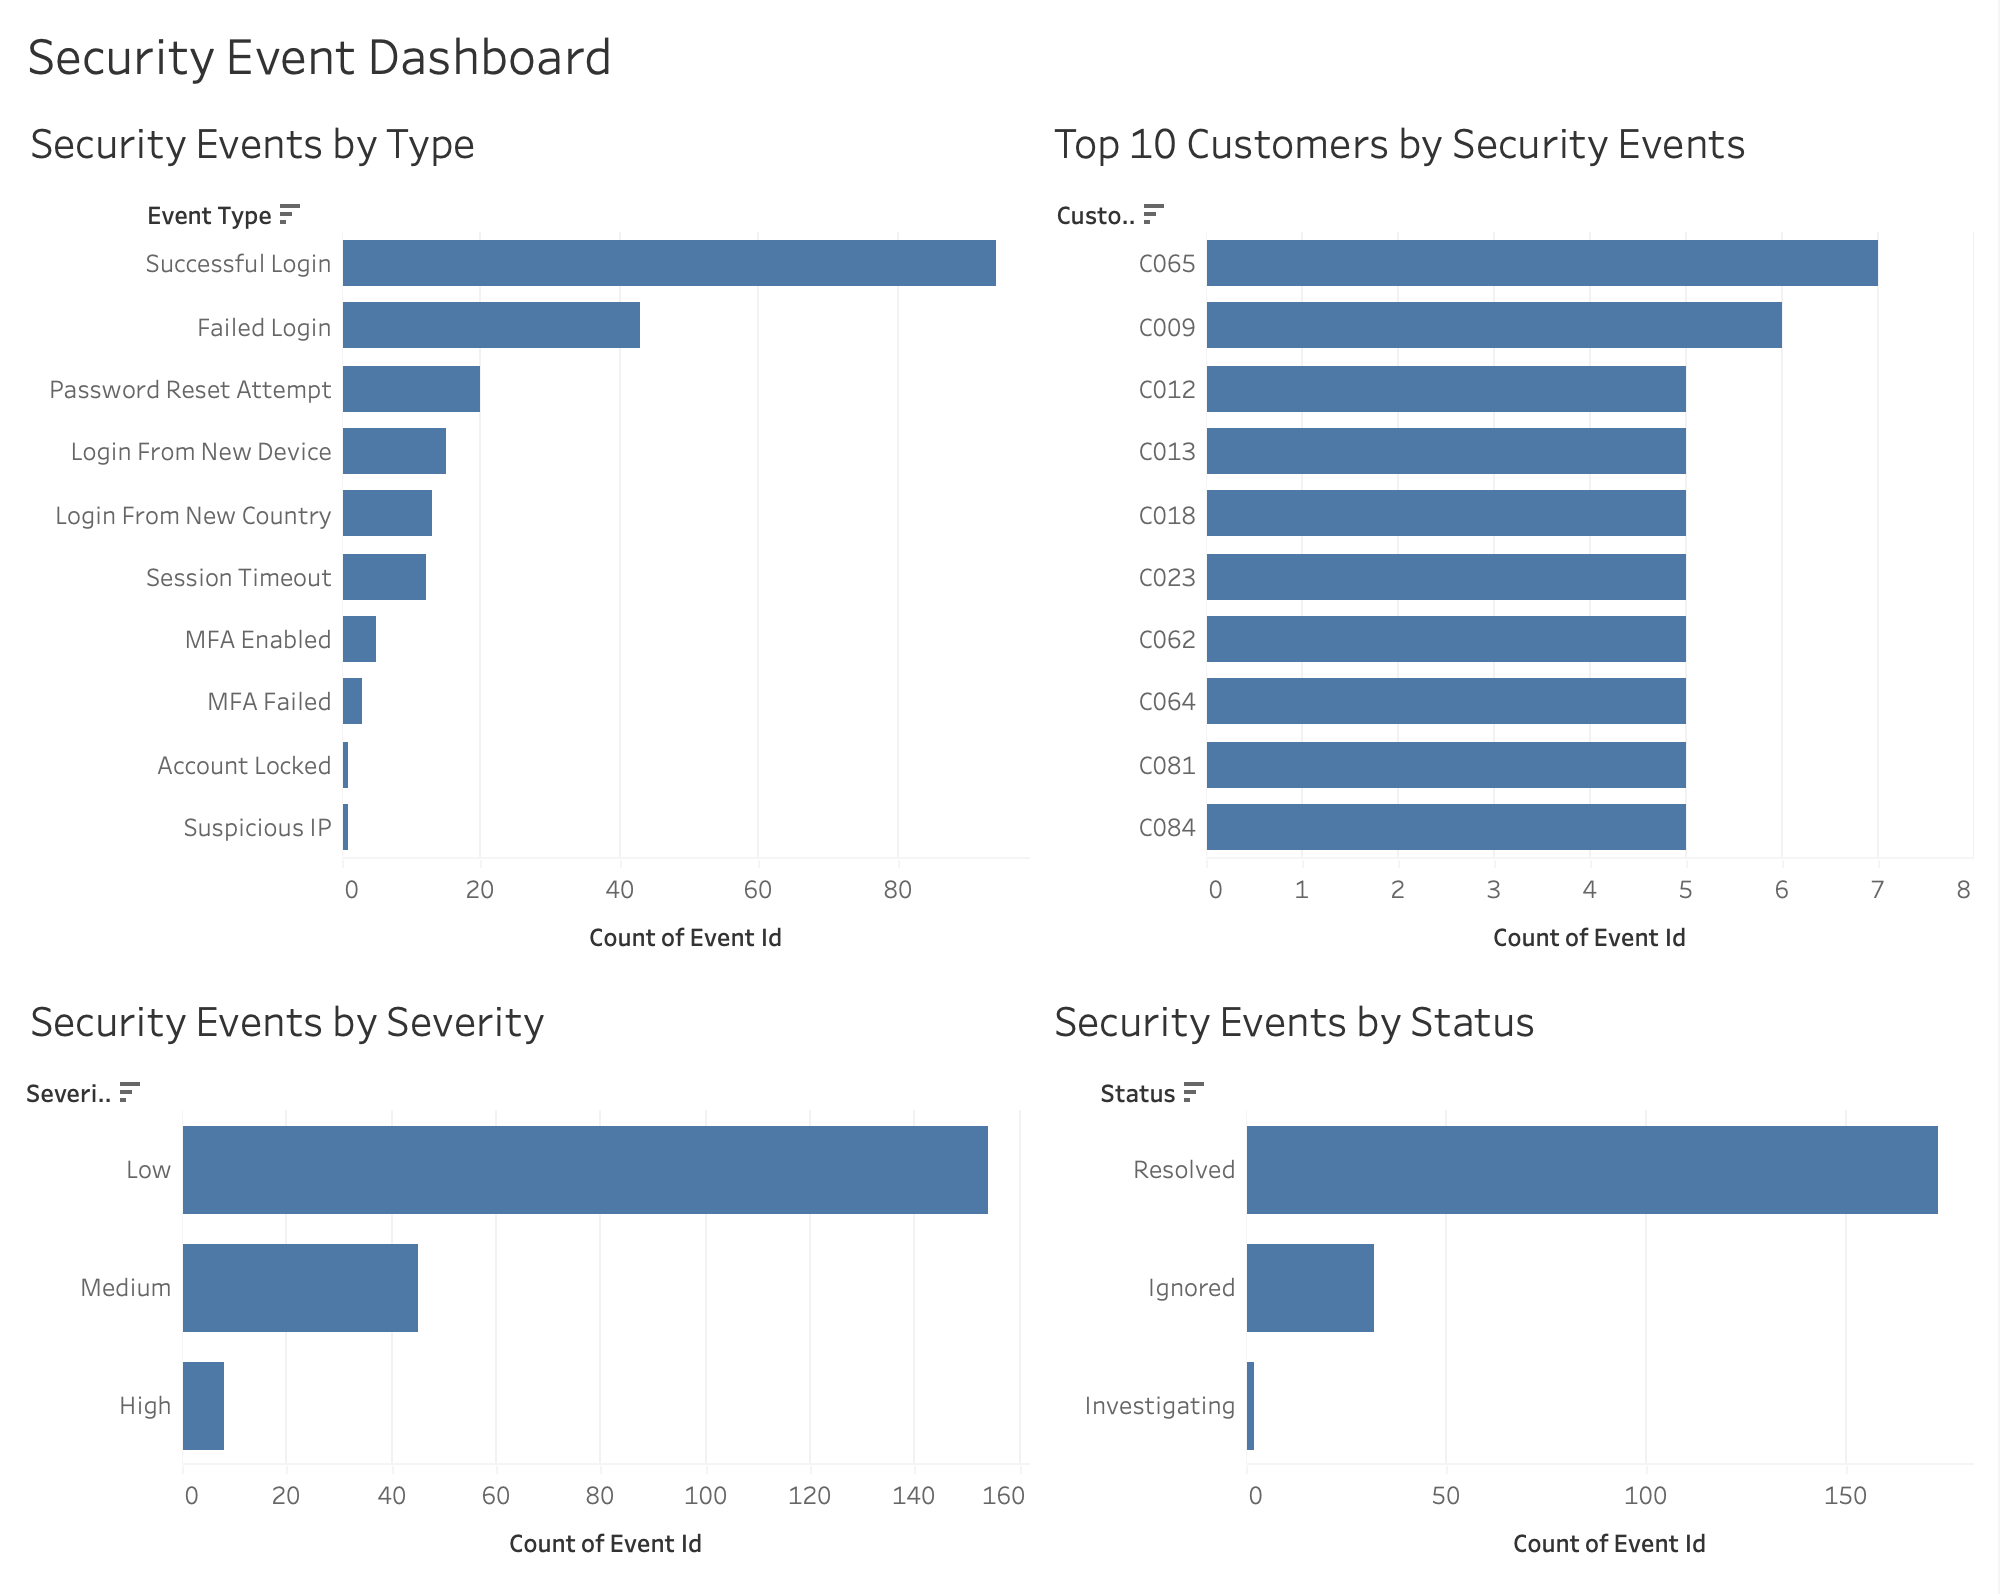

The dashboard page shown, as its layout file describes it:
{"tool":"tableau","page":{"name":"Security Event Dashboard","canvas":[1000,800],"ordinal":2},"visuals":[{"type":"title","box":[8,8,984,42]},{"type":"worksheet","title":"Security Events by Type","mark":"Automatic","rows":["event_type"],"cols":["event_id"],"box":[8,50,512,439]},{"type":"worksheet","title":"Top 10 Customers by Security Events","mark":"Automatic","rows":["customer_id"],"cols":["event_id"],"box":[520,50,472,439]},{"type":"worksheet","title":"Security Events by Severity","mark":"Automatic","rows":["severity"],"cols":["event_id"],"box":[8,489,512,303]},{"type":"worksheet","title":"Security Events by Status","mark":"Automatic","rows":["status"],"cols":["event_id"],"box":[520,489,472,303]}]}

Visuals, with their boxes in screenshot pixels (x1, y1, x2, y2), scaled from the page's 1000x800 canvas onto the 2000x1594 screenshot:
title: bbox=[16, 16, 1984, 100]
"Security Events by Type" worksheet: bbox=[16, 100, 1040, 974]
"Top 10 Customers by Security Events" worksheet: bbox=[1040, 100, 1984, 974]
"Security Events by Severity" worksheet: bbox=[16, 974, 1040, 1578]
"Security Events by Status" worksheet: bbox=[1040, 974, 1984, 1578]
